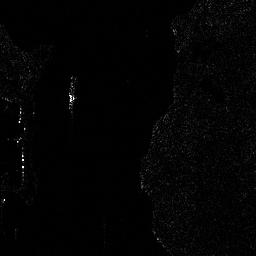ship: (67, 74, 77, 111)
